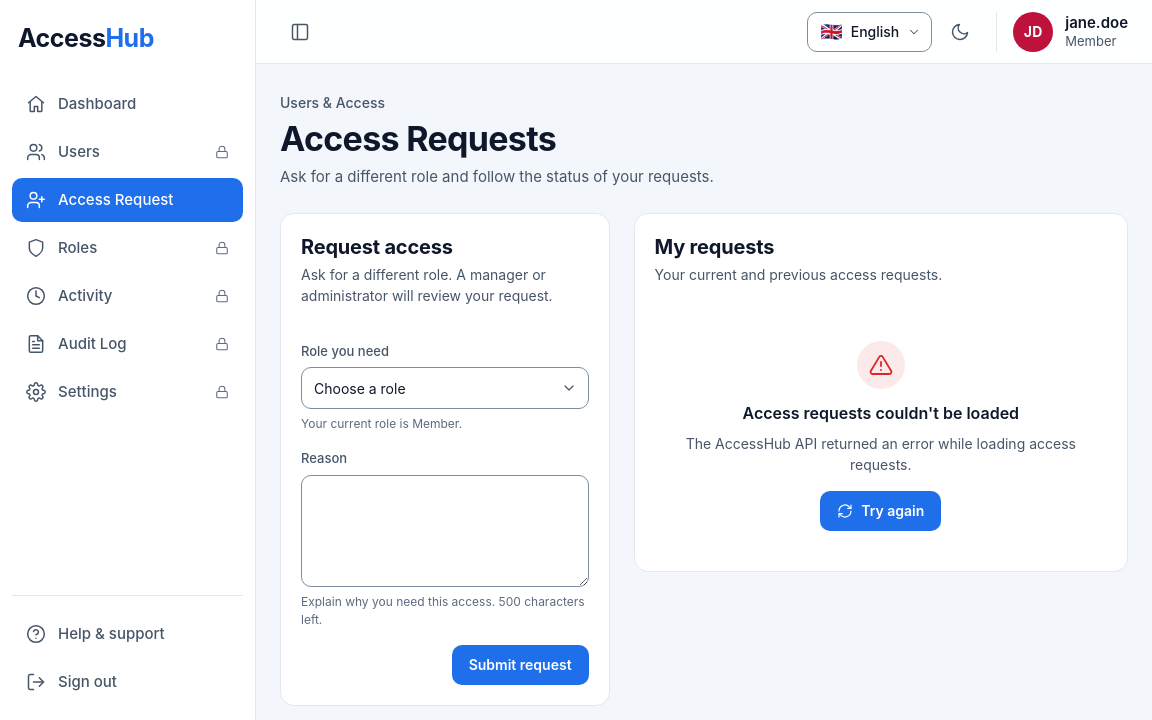
Access requests — members › shows a retry state when history can't load
The width and height of the screenshot is (1152, 720).
Expected: the text "Access requests couldn't be loaded" is shown, [742,401,1019,425]
Step 1. Click the button "Try again" → (881, 511), box [820,491,941,531]
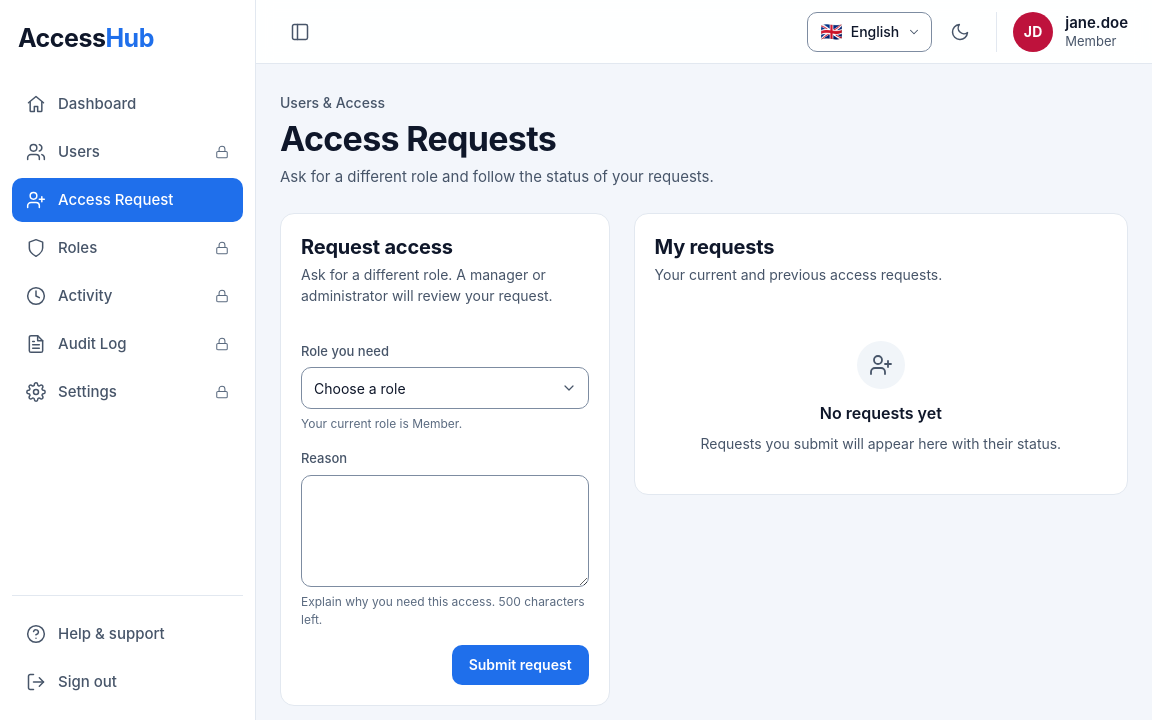
Now the text "No requests yet" is shown, box [820,401,942,425]
